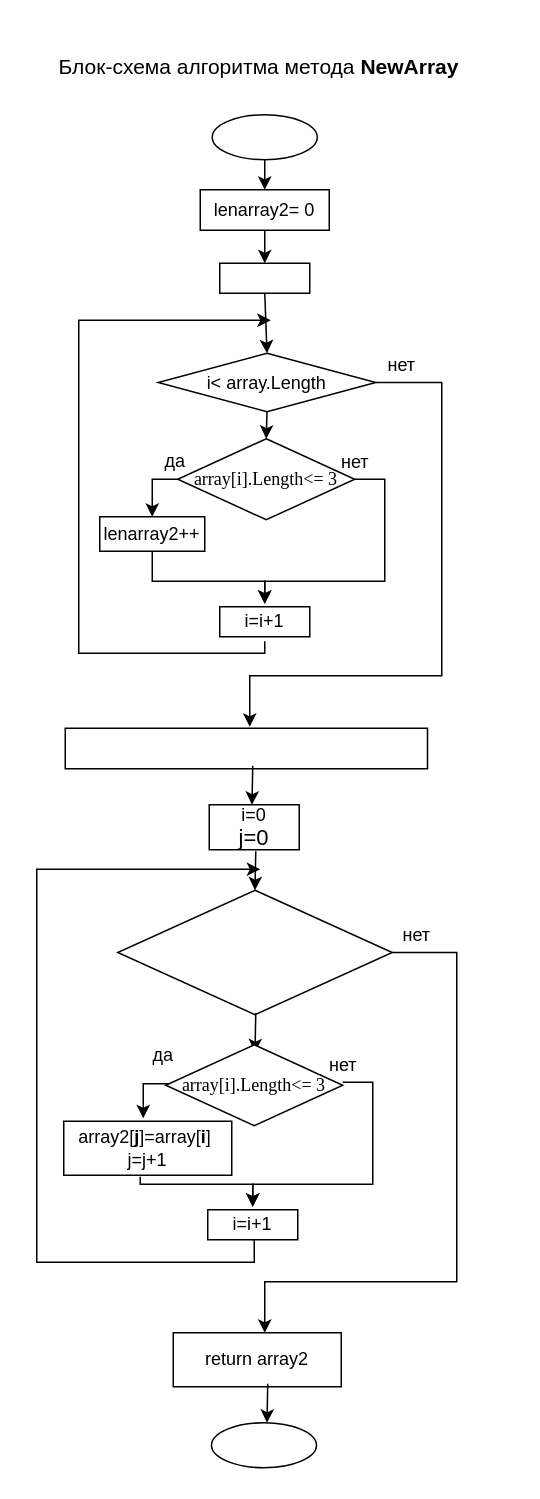
This 540x1499 diagram has some shape labels left out. Here are the shapes that lost their labels. From the top down, the centre of each, then its label:
the point at 264,136: Начало
the point at 264,277: i=0
the point at 246,748: string[] array2 = new string[lenarray2]
the point at 254,952: i< array.Length && j< lenarray2
the point at 263,1444: конец
